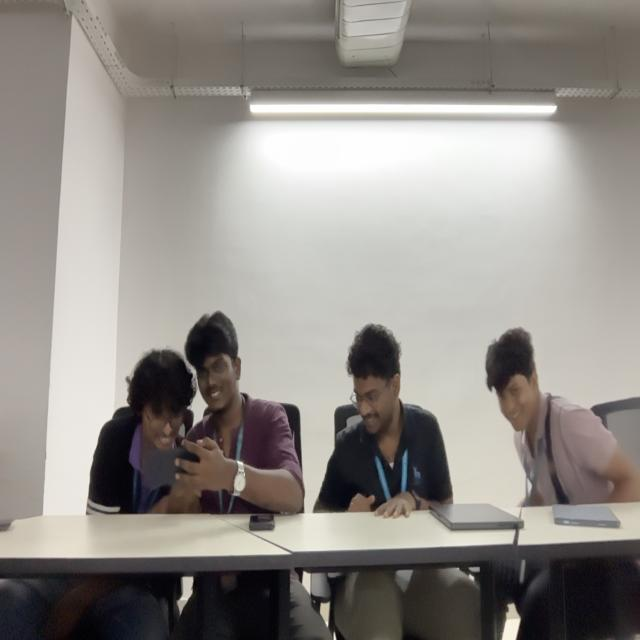Isolated: (486, 328, 640, 503)
socializing: (84, 313, 454, 513)
